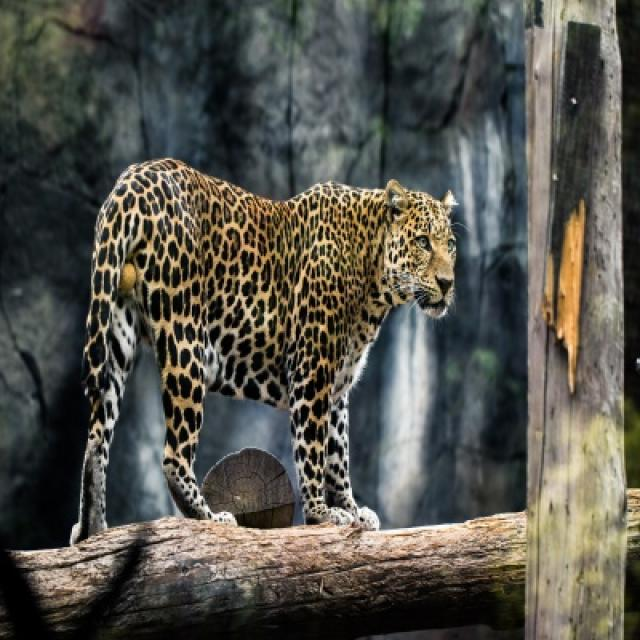Jaguar: (72, 158, 456, 542)
